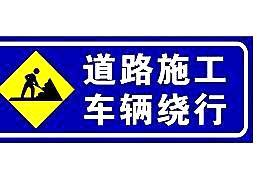sign: (3, 40, 249, 138)
